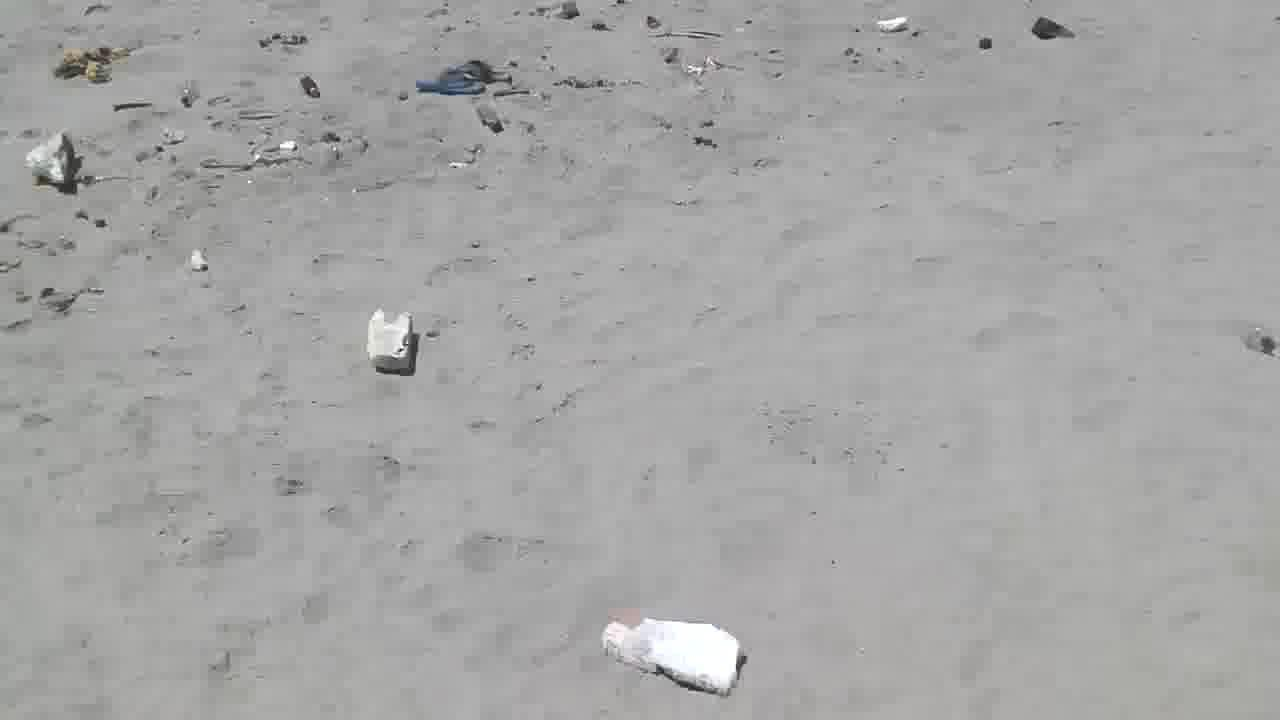large collection of objects: (18, 130, 82, 192)
obj: (582, 606, 742, 698), (48, 39, 140, 94), (410, 54, 514, 100), (367, 306, 416, 382), (466, 80, 516, 131), (546, 72, 652, 94), (868, 9, 917, 40), (1032, 15, 1080, 43), (294, 68, 323, 105), (189, 241, 211, 276), (280, 140, 298, 156)
